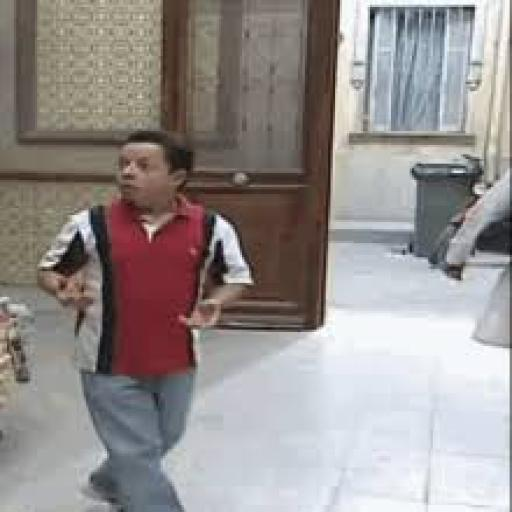fouchika: (116, 129, 191, 217)
